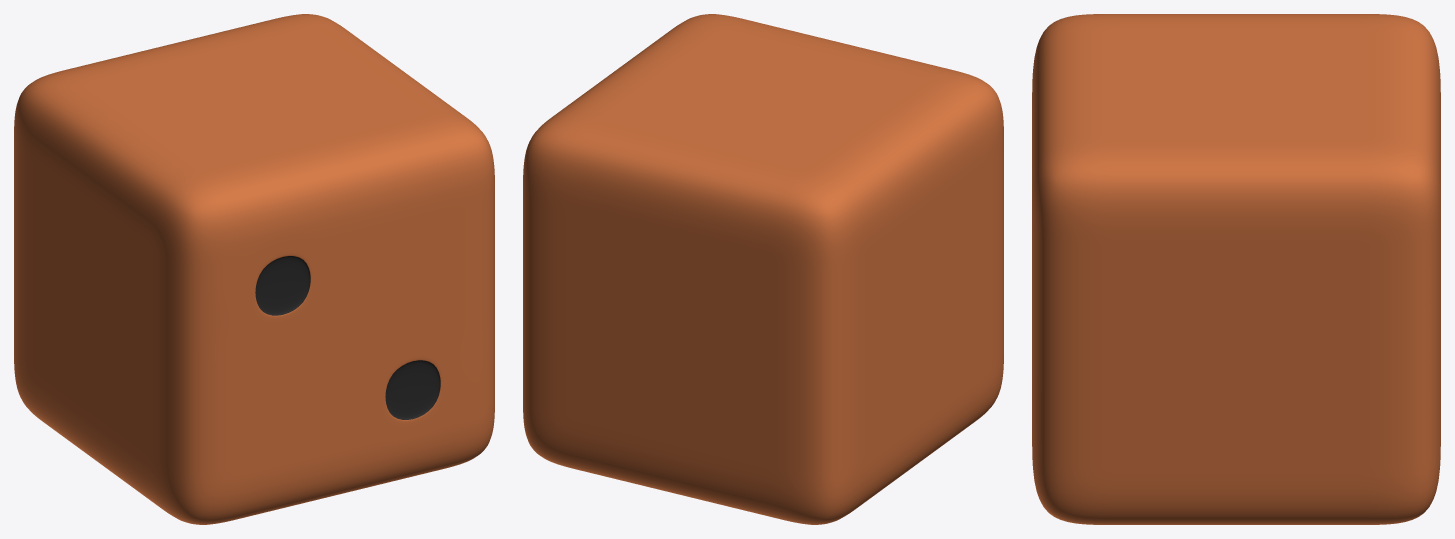
File: dice_2.fbx
3 views of the same model, side by side, from view 1: azimuth 30°, elevation 25°; view 2: azimuth 150°, elevation 25°; view 3: azimuth 270°, elevation 25° (orthographic). The views are drawn at different scales.
Visible parts, largest first — view 1: dice_2; view 2: dice_2; view 3: dice_2.
Part boxes in pixels (bbox=[...]): dice_2: bbox=[14, 14, 494, 524]; dice_2: bbox=[523, 14, 1003, 524]; dice_2: bbox=[1032, 14, 1440, 524].
Bounding box in the file's own units: 100 × 100 × 100.
